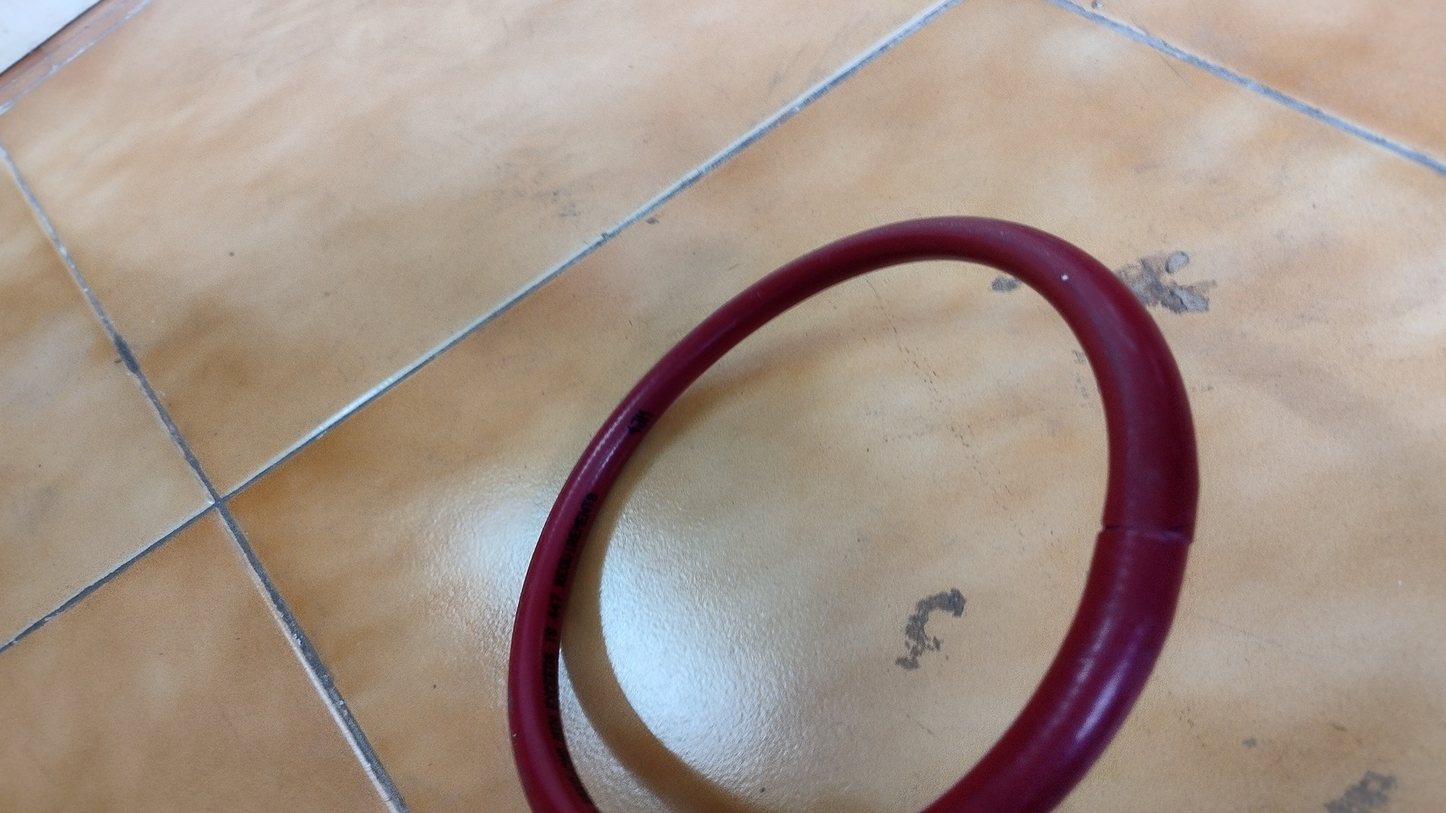Red ring: (504, 215, 1200, 813)
